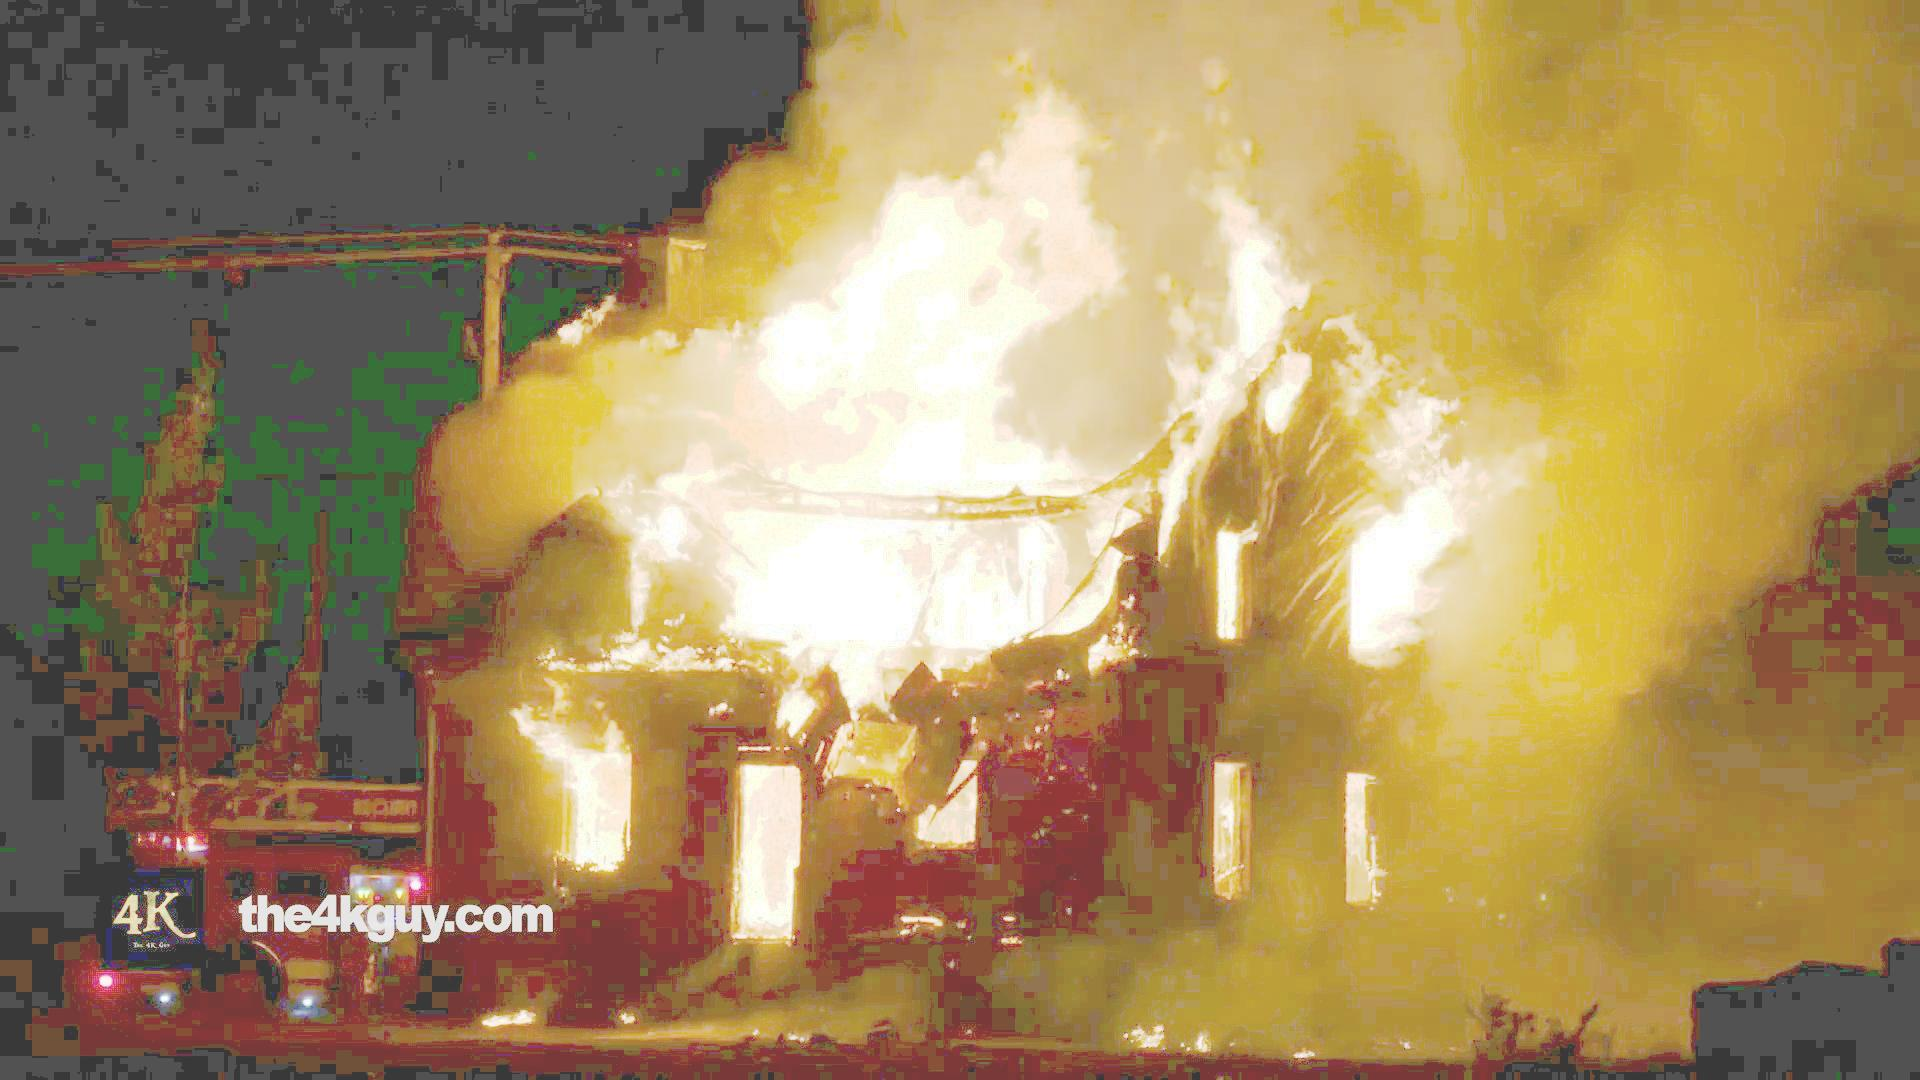fire: (625, 100, 1138, 637), (1151, 108, 1303, 443), (1345, 433, 1526, 621), (510, 703, 636, 858), (711, 778, 800, 890)
